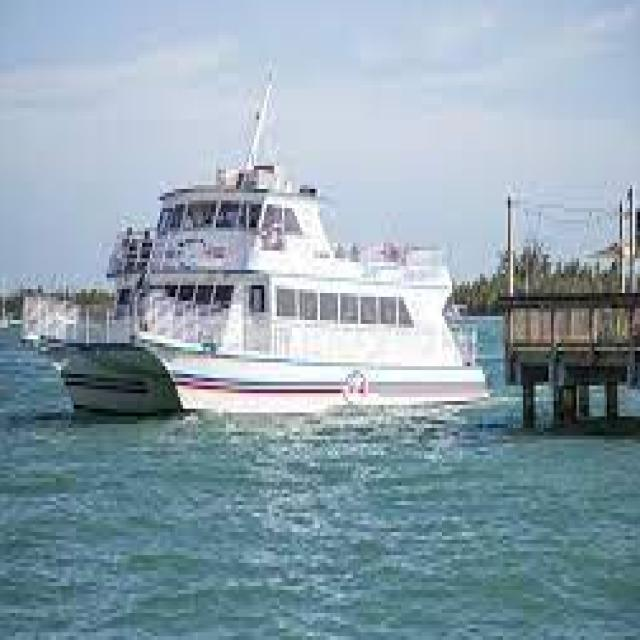passenger ship: (30, 158, 486, 412)
